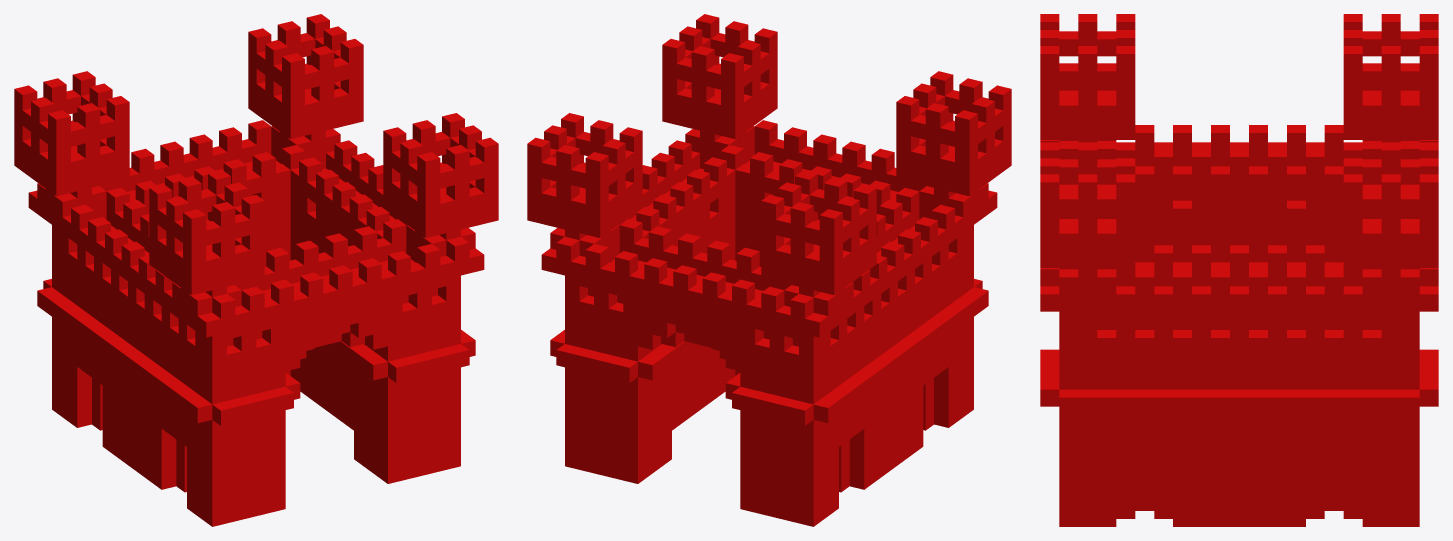
File: castle.fbx
3 renders of one model, left to right at view 1: azimuth 30°, elevation 25°; view 2: azimuth 150°, elevation 25°; view 3: azimuth 270°, elevation 25°, orthographic. The views are drawn at different scales.
Visible parts, largest first — view 1: Mesh; view 2: Mesh; view 3: Mesh.
Boxes of the visible parts, <box> form: Mesh: <box>14,14,498,526</box>; Mesh: <box>527,14,1011,526</box>; Mesh: <box>1040,14,1438,526</box>.
Bounding box in the file's own units: 21 × 21 × 21.
